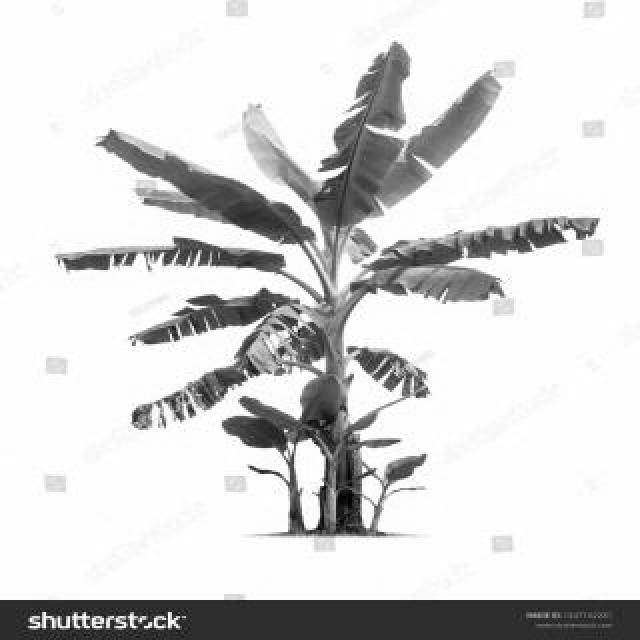Pisang: (70, 73, 580, 539)
